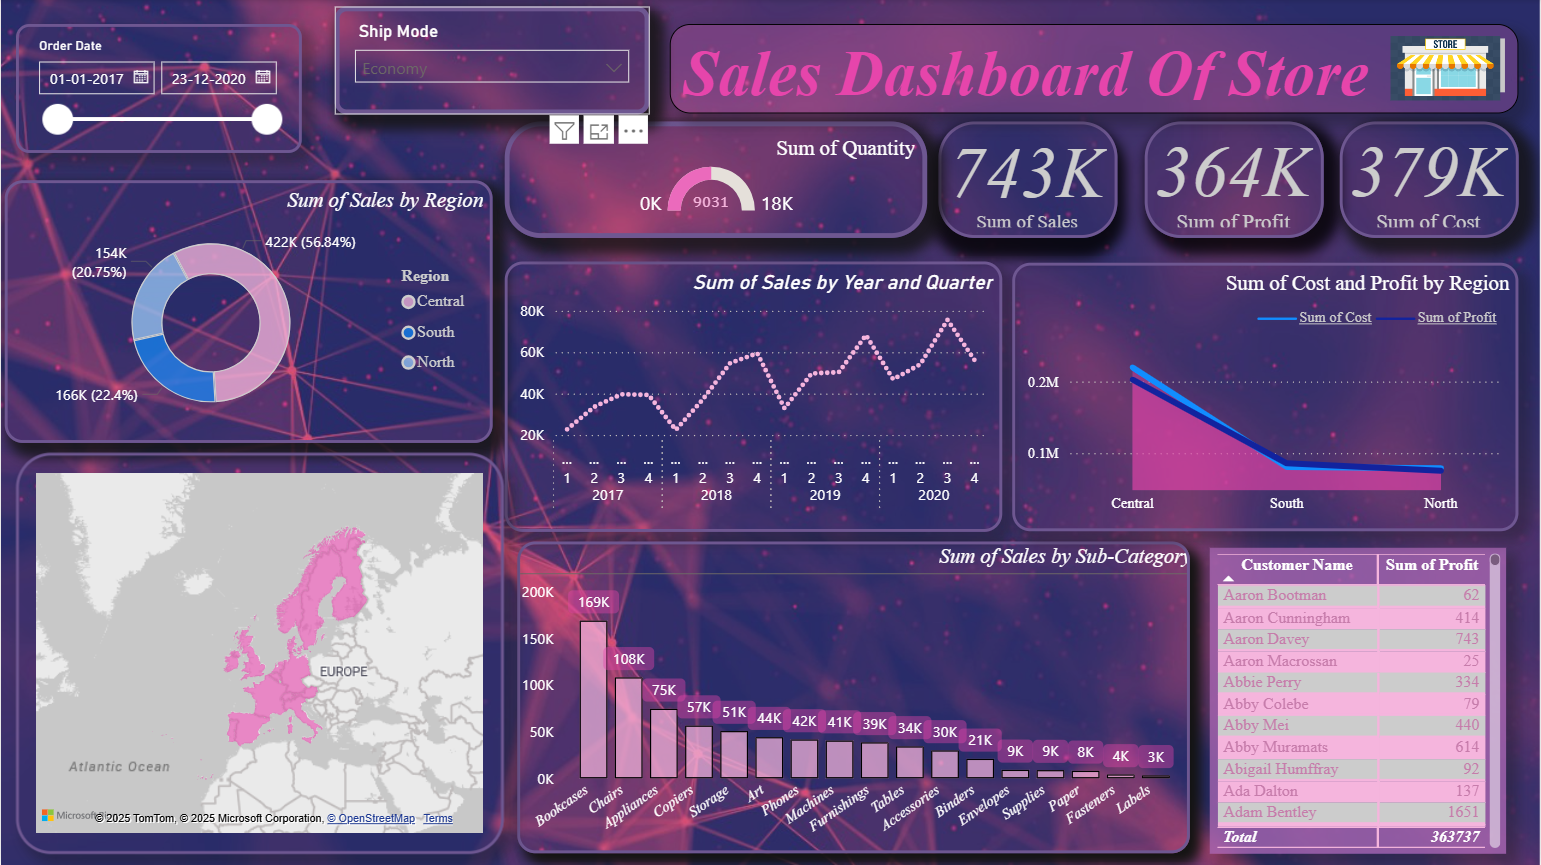

The dashboard page shown, as its layout file describes it:
{"tool":"powerbi","page":{"name":"Page 1","canvas":[1280,720],"ordinal":0},"visuals":[{"type":"card","fields":{"Values":["List of Orders.Sales"]},"box":[779.1,102.3,148.8,96.5],"z":0},{"type":"card","fields":{"Values":["List of Orders.Profit"]},"box":[951.2,102.3,148.8,96.5],"z":1000},{"type":"card","fields":{"Values":["List of Orders.Cost"]},"box":[1112.8,102.3,148.8,96.5],"z":2000},{"type":"donutChart","fields":{"Category":["List of Orders.Region"],"Y":["List of Orders.Sales"]},"box":[3.1,150.7,405.3,218.2],"z":3000},{"type":"lineChart","fields":{"Category":["List of Orders.Order Date.Variation.Date Hierarchy.Year","List of Orders.Order Date.Variation.Date Hierarchy.Quarter"],"Y":["List of Orders.Sales"]},"box":[418.6,218.6,414,224.4],"z":4000},{"type":"clusteredColumnChart","fields":{"Y":["List of Orders.Sales"],"Category":["List of Orders.Sub-Category"]},"box":[429.1,451.2,559.3,259.3],"z":5000},{"type":"slicer","fields":{"Values":["List of Orders.Order Date"]},"box":[12.8,20.9,237.2,107],"z":6000},{"type":"tableEx","fields":{"Values":["List of Orders.Customer Name","List of Orders.Profit","select"]},"box":[1004.7,455.8,246.5,254.7],"z":7000},{"type":"filledMap","fields":{"Category":["List of Orders.Country"]},"box":[12.8,376.7,405.8,333.7],"z":8000},{"type":"areaChart","title":"Sum of Cost and Profit by Region","fields":{"Y":["List of Orders.Cost","List of Orders.Profit"],"Category":["List of Orders.Region"]},"box":[840.7,219.8,420.9,223.3],"z":9000},{"type":"gauge","fields":{"Y":["List of Orders.Quantity"]},"box":[418.6,102.3,351.2,96.5],"z":10000},{"type":"slicer","fields":{"Values":["List of Orders.Ship Mode"]},"box":[277.9,5.8,261.6,89.5],"z":11000},{"type":"textbox","box":[555.8,20.9,705.8,74.4],"z":12000},{"type":"image","box":[1150.5,26,100.8,63.4],"z":12001}]}

Visuals, with their boxes in screenshot pixels (x1, y1, x2, y2), scaled from the page's 1280x720 canvas onto the 1541x865 screenshot:
card - List of Orders.Sales: box=[938, 123, 1117, 239]
card - List of Orders.Profit: box=[1145, 123, 1324, 239]
card - List of Orders.Cost: box=[1340, 123, 1519, 239]
donutChart - List of Orders.Region x List of Orders.Sales: box=[4, 181, 492, 443]
lineChart - List of Orders.Order Date.Variation.Date Hierarchy.Year x List of Orders.Order Date.Variation.Date Hierarchy.Quarter: box=[504, 263, 1002, 532]
clusteredColumnChart - List of Orders.Sales x List of Orders.Sub-Category: box=[517, 542, 1190, 854]
slicer - List of Orders.Order Date: box=[15, 25, 301, 154]
tableEx - List of Orders.Customer Name x List of Orders.Profit: box=[1210, 548, 1506, 854]
filledMap - List of Orders.Country: box=[15, 453, 504, 853]
"Sum of Cost and Profit by Region" areaChart: box=[1012, 264, 1519, 532]
gauge - List of Orders.Quantity: box=[504, 123, 927, 239]
slicer - List of Orders.Ship Mode: box=[335, 7, 650, 114]
textbox: box=[669, 25, 1519, 114]
image: box=[1385, 31, 1506, 107]
